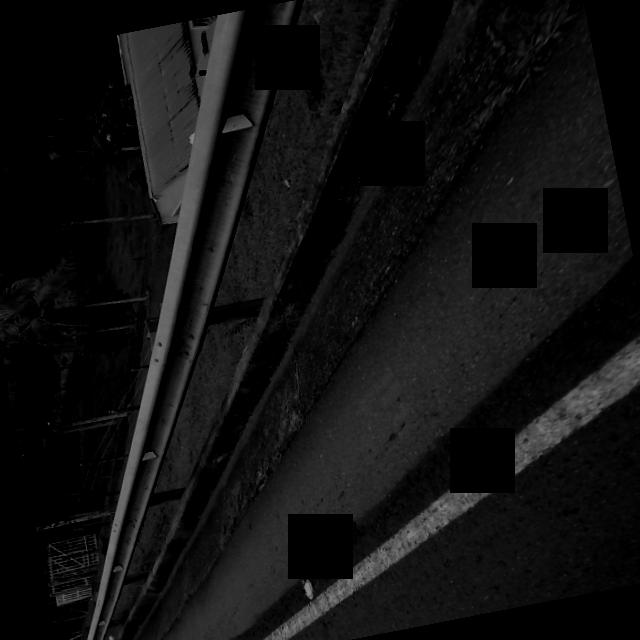DITCH: (0, 0, 640, 640), (22, 0, 640, 640), (27, 0, 640, 640)
